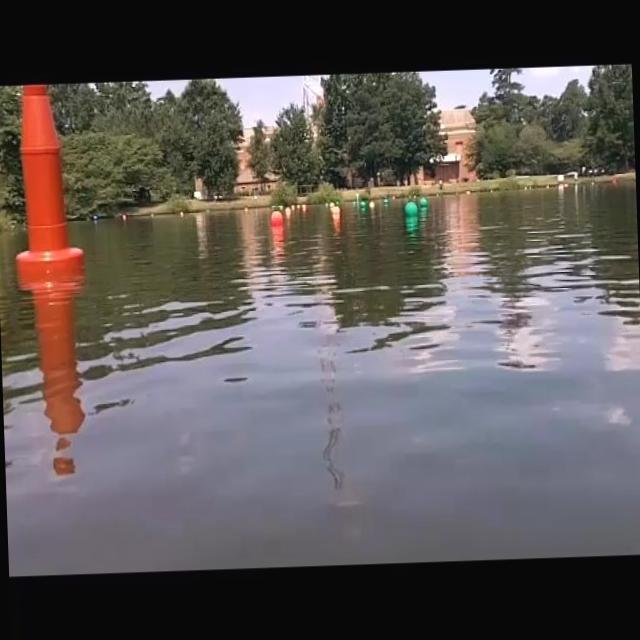buoy: (402, 200, 418, 218), (269, 210, 283, 228), (419, 196, 426, 208)
